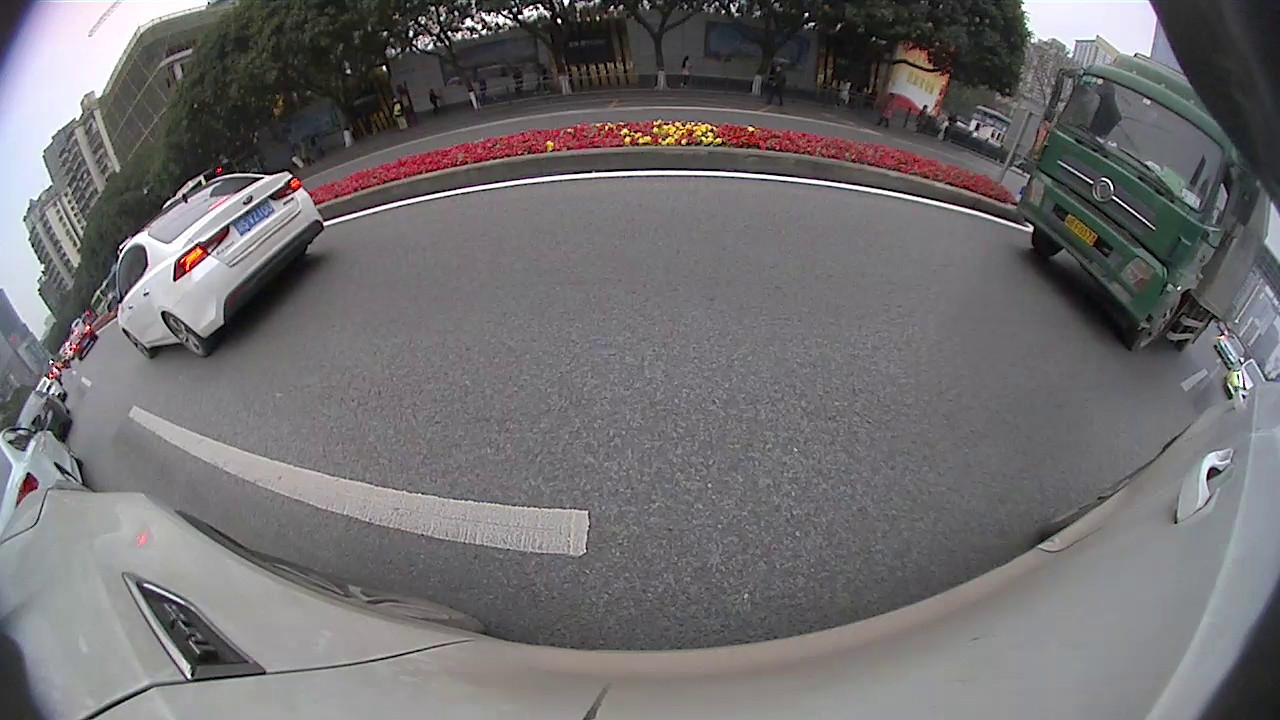car: (114, 169, 327, 361), (2, 429, 86, 520), (16, 388, 74, 447), (1224, 360, 1267, 401), (66, 329, 101, 361)
front: (1129, 293, 1184, 351)
rear: (164, 313, 208, 357)
truck: (1033, 53, 1268, 362)
